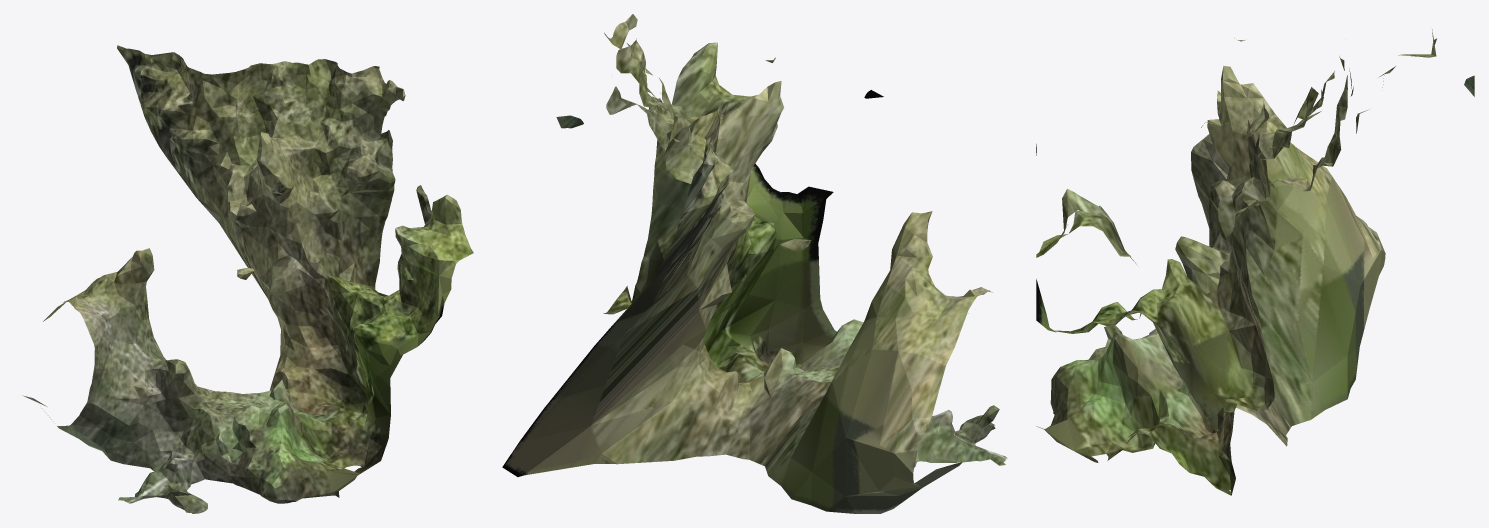
3 renders of one model, left to right at view 1: azimuth 30°, elevation 25°; view 2: azimuth 150°, elevation 25°; view 3: azimuth 270°, elevation 25°, orthographic. The views are drawn at different scales.
Bounding box in the file's own units: 11.8 × 11.8 × 11.8.
Materials: 5 (5 with a texture image).
